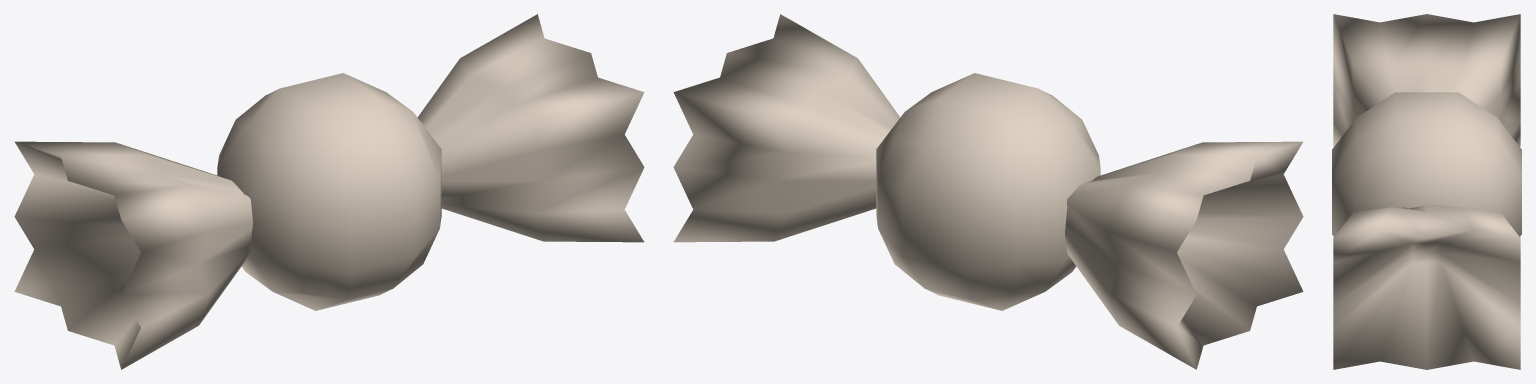
File: candy_white.fbx
3 renders of one model, left to right at view 1: azimuth 30°, elevation 25°; view 2: azimuth 150°, elevation 25°; view 3: azimuth 270°, elevation 25°, orthographic. The views are drawn at different scales.
Parts seen in each view (by area): view 1: candy_white.001; view 2: candy_white.001; view 3: candy_white.001.
Boxes of the visible parts, x1,y1,x2,y2 form: candy_white.001: [14, 14, 644, 369]; candy_white.001: [673, 14, 1303, 369]; candy_white.001: [1332, 14, 1521, 369].
Bounding box in the file's own units: 269 × 96.49 × 96.49.
